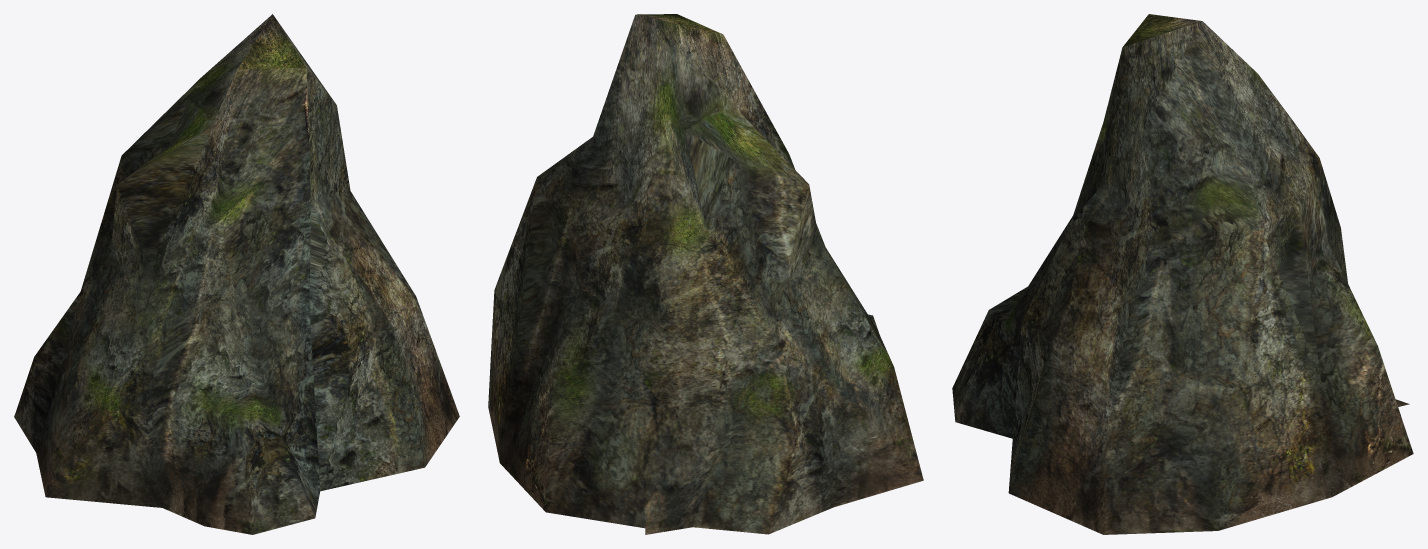
Rendered from rock_002_LOD.fbx.
The picture shows the model from 3 angles, left to right: view 1: azimuth 30°, elevation 25°; view 2: azimuth 150°, elevation 25°; view 3: azimuth 270°, elevation 25°; orthographic projection. The views are drawn at different scales.
Visible parts, largest first — view 1: rock_002_LOD3; view 2: rock_002_LOD3; view 3: rock_002_LOD3.
Part boxes in pixels (x1=…): rock_002_LOD3: x1=14, y1=14, x2=459, y2=534; rock_002_LOD3: x1=488, y1=14, x2=923, y2=534; rock_002_LOD3: x1=952, y1=14, x2=1413, y2=534.
Size of the model in its own units: 1244 by 1220 by 1162.
Materials: 1 (1 with a texture image).
